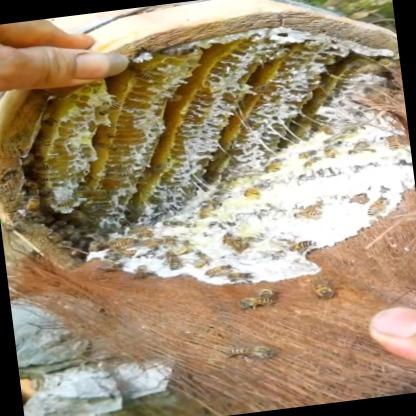bee: (0, 172, 122, 267), (102, 220, 218, 284), (66, 91, 144, 121), (295, 269, 356, 306), (345, 186, 404, 223), (211, 256, 274, 290), (229, 278, 288, 314), (266, 236, 322, 260), (25, 99, 67, 130), (290, 197, 332, 227), (12, 184, 53, 212), (130, 66, 164, 89)
